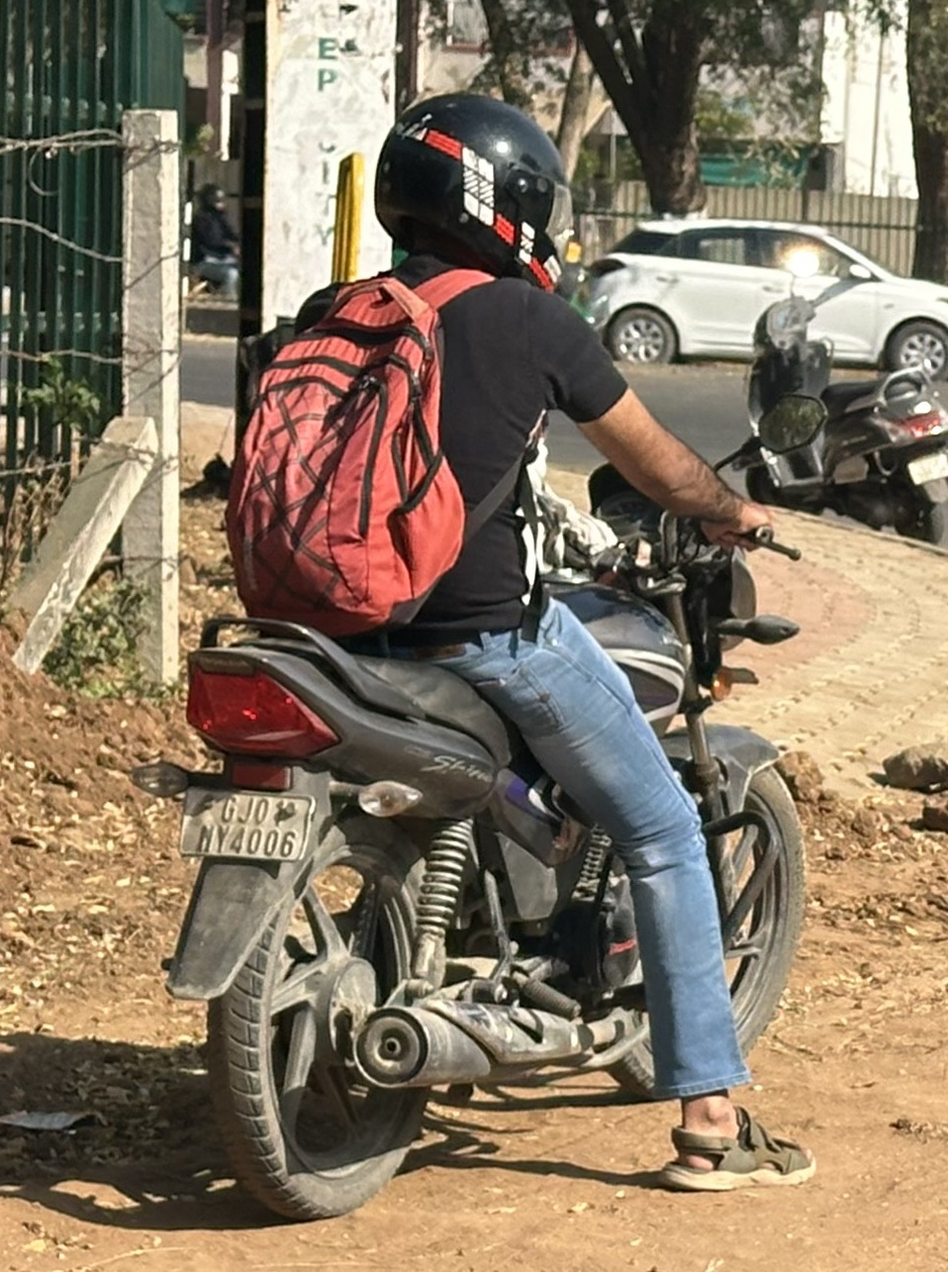BikeWithRider: (156, 87, 843, 1224)
Helmet: (369, 93, 583, 307)
